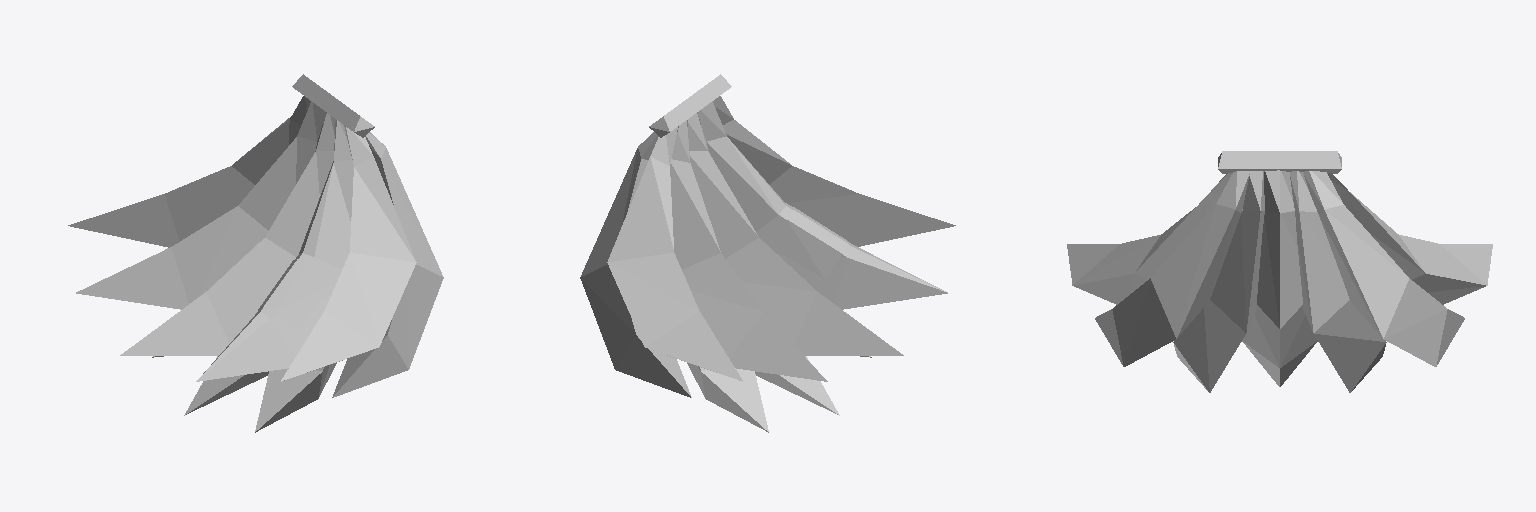
The model's file is OBJ_BANANA_02_LOD100.obj.
3 renders of one model, left to right at view 1: azimuth 30°, elevation 25°; view 2: azimuth 150°, elevation 25°; view 3: azimuth 270°, elevation 25°, orthographic.
Visible parts, largest first — view 1: OBJ_BANANA_02_LOD100; view 2: OBJ_BANANA_02_LOD100; view 3: OBJ_BANANA_02_LOD100.
Part boxes in pixels (left/top/right/bottom): OBJ_BANANA_02_LOD100: left=68, top=74, right=443, bottom=432; OBJ_BANANA_02_LOD100: left=580, top=74, right=955, bottom=432; OBJ_BANANA_02_LOD100: left=1067, top=151, right=1492, bottom=392.
Bounding box in the file's own units: 1.5 × 1.5 × 2.03.